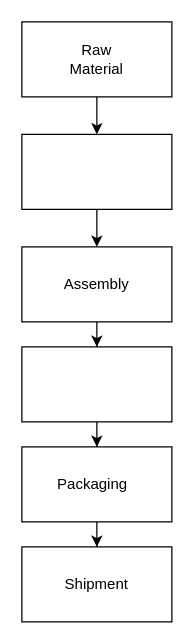
The diagram is 194 pixels wide and 644 high, and some of its shapes have lost their labels. The centre of each missing label's shape, as x and y in pixels:
"Inspection" belongs at [96,171].
"Testing" belongs at [96,384].
